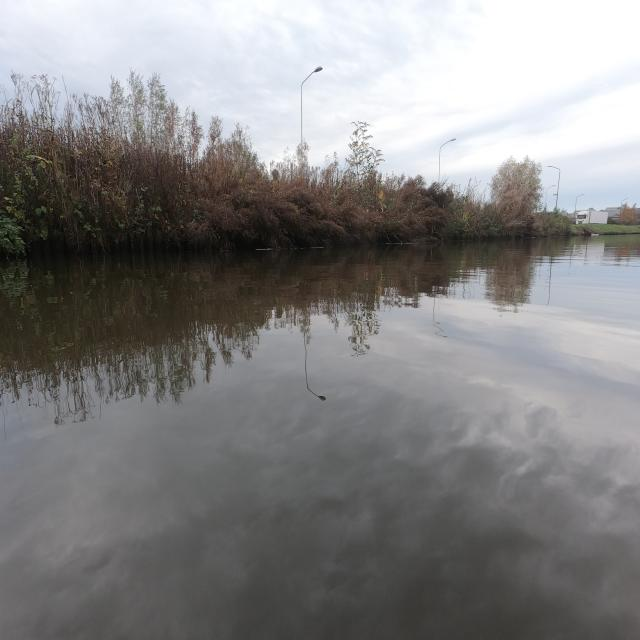grass: (571, 223, 640, 235)
reed: (0, 72, 568, 256)
sky: (0, 1, 639, 201)
water: (1, 241, 638, 639)
